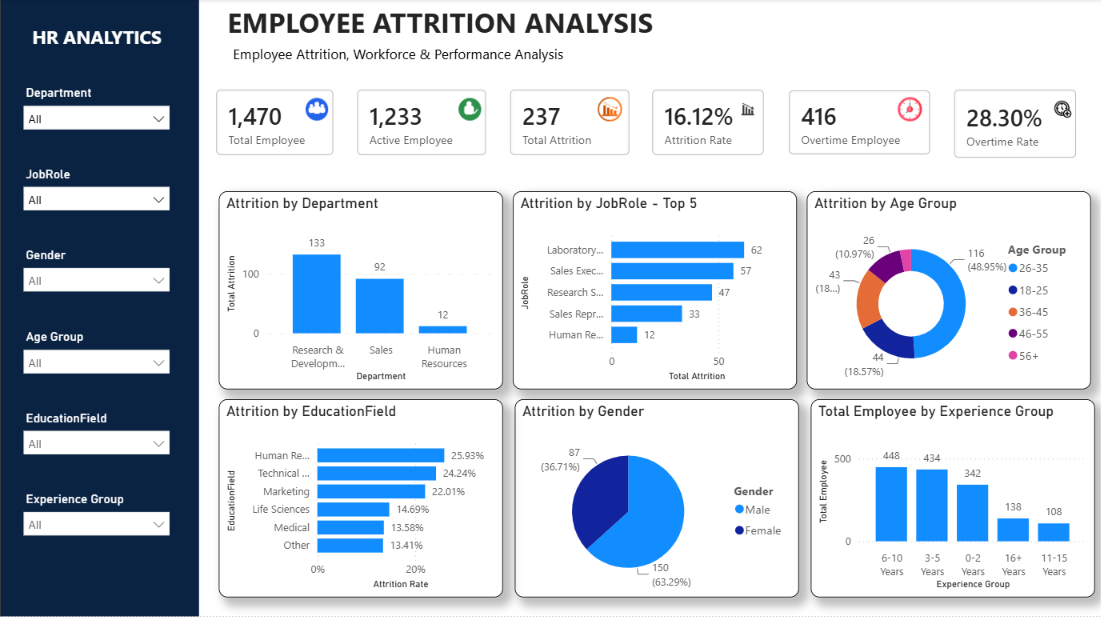

What the dashboard file says about the page in this screenshot:
{"tool":"powerbi","page":{"name":"HR_Analytics_Dashboard","canvas":[1280,720],"ordinal":0},"visuals":[{"type":"cardVisual","fields":{"Data":["hr_analytics employees.Total Attrition"]},"box":[575,88.4,172.1,110.5],"z":0},{"type":"cardVisual","fields":{"Data":["hr_analytics employees.Active Employee"]},"box":[397.7,88.4,183.7,110.5],"z":1000},{"type":"cardVisual","fields":{"Data":["hr_analytics employees.Total Employee"]},"box":[234.1,88.4,170,110],"z":2000},{"type":"cardVisual","fields":{"Data":["hr_analytics employees.Attrition Rate"]},"box":[740.7,88.4,164,110.5],"z":3000},{"type":"shape","box":[243,0,1037.2,88.4],"z":4000},{"type":"textbox","box":[243,0,536,55.8],"z":5000},{"type":"textbox","box":[265.1,47.7,496.5,34.9],"z":6000},{"type":"cardVisual","fields":{"Data":["hr_analytics employees.Overtime Employee"]},"box":[898.3,88.4,200,110.5],"z":7000},{"type":"columnChart","title":"Attrition by Department","fields":{"Category":["hr_analytics employees.Department"],"Y":["hr_analytics employees.Total Attrition"]},"box":[253.6,223.6,330,230],"z":8000},{"type":"barChart","title":"Attrition by JobRole - Top 5","fields":{"Y":["hr_analytics employees.Total Attrition"],"Category":["hr_analytics employees.JobRole"]},"box":[595.5,223.6,330,230],"z":9000},{"type":"donutChart","title":"Attrition by Age Group","fields":{"Y":["hr_analytics employees.Total Attrition"],"Category":["hr_analytics employees.Age Group"]},"box":[937.3,223.6,330,230],"z":10000},{"type":"pieChart","title":"Attrition by Gender","fields":{"Y":["hr_analytics employees.Total Attrition"],"Category":["hr_analytics employees.Gender"]},"box":[597.4,464.7,330,230],"z":11000},{"type":"clusteredBarChart","title":"Attrition by EducationField","fields":{"Category":["hr_analytics employees.EducationField"],"Y":["hr_analytics employees.Attrition Rate"]},"box":[253.4,464.7,330,230],"z":12000},{"type":"columnChart","fields":{"Y":["hr_analytics employees.Total Employee"],"Category":["hr_analytics employees.Experience Group"]},"box":[941.4,464.7,330,230],"z":13000},{"type":"shape","box":[0,0,230,719.8],"z":14000},{"type":"textbox","box":[25,25,174.4,40.7],"z":15000},{"type":"slicer","fields":{"Values":["hr_analytics employees.Department"]},"box":[16.3,95.3,190,60],"z":16000},{"type":"slicer","fields":{"Values":["hr_analytics employees.JobRole"]},"box":[16.3,189.8,190,60],"z":17000},{"type":"slicer","fields":{"Values":["hr_analytics employees.Gender"]},"box":[16.3,284.2,190,60],"z":18000},{"type":"slicer","fields":{"Values":["hr_analytics employees.Age Group"]},"box":[16.3,378.6,190,60],"z":19000},{"type":"slicer","fields":{"Values":["hr_analytics employees.Experience Group"]},"box":[16.3,567.4,190,60],"z":20000},{"type":"slicer","fields":{"Values":["hr_analytics employees.EducationField"]},"box":[16.3,473,190,60],"z":21000},{"type":"cardVisual","fields":{"Data":["hr_analytics employees.Overtime Rate"]},"box":[1091.9,88.4,175.6,114],"z":26000},{"type":"image","box":[1220.9,114,28,28],"z":28000},{"type":"image","box":[1043,114,28,28],"z":28500},{"type":"image","box":[854.7,114,28,28],"z":29000},{"type":"image","box":[694,114.1,28,28],"z":29500},{"type":"image","box":[531.9,114.1,28,28],"z":30000},{"type":"image","box":[353.5,114,28,28],"z":30500}]}

Visuals, with their boxes in screenshot pixels (x1, y1, x2, y2), scaled from the page's 1280x720 canvas onto the 1101x617 screenshot:
cardVisual - hr_analytics employees.Total Attrition: <bbox>495, 76, 643, 170</bbox>
cardVisual - hr_analytics employees.Active Employee: <bbox>342, 76, 500, 170</bbox>
cardVisual - hr_analytics employees.Total Employee: <bbox>201, 76, 348, 170</bbox>
cardVisual - hr_analytics employees.Attrition Rate: <bbox>637, 76, 778, 170</bbox>
shape: <bbox>209, 0, 1100, 76</bbox>
textbox: <bbox>209, 0, 670, 48</bbox>
textbox: <bbox>228, 41, 655, 71</bbox>
cardVisual - hr_analytics employees.Overtime Employee: <bbox>773, 76, 945, 170</bbox>
"Attrition by Department" columnChart: <bbox>218, 192, 502, 389</bbox>
"Attrition by JobRole - Top 5" barChart: <bbox>512, 192, 796, 389</bbox>
"Attrition by Age Group" donutChart: <bbox>806, 192, 1090, 389</bbox>
"Attrition by Gender" pieChart: <bbox>514, 398, 798, 595</bbox>
"Attrition by EducationField" clusteredBarChart: <bbox>218, 398, 502, 595</bbox>
columnChart - hr_analytics employees.Total Employee x hr_analytics employees.Experience Group: <bbox>810, 398, 1094, 595</bbox>
shape: <bbox>0, 0, 198, 616</bbox>
textbox: <bbox>22, 21, 172, 56</bbox>
slicer - hr_analytics employees.Department: <bbox>14, 82, 177, 133</bbox>
slicer - hr_analytics employees.JobRole: <bbox>14, 163, 177, 214</bbox>
slicer - hr_analytics employees.Gender: <bbox>14, 244, 177, 295</bbox>
slicer - hr_analytics employees.Age Group: <bbox>14, 324, 177, 376</bbox>
slicer - hr_analytics employees.Experience Group: <bbox>14, 486, 177, 538</bbox>
slicer - hr_analytics employees.EducationField: <bbox>14, 405, 177, 457</bbox>
cardVisual - hr_analytics employees.Overtime Rate: <bbox>939, 76, 1090, 173</bbox>
image: <bbox>1050, 98, 1074, 122</bbox>
image: <bbox>897, 98, 921, 122</bbox>
image: <bbox>735, 98, 759, 122</bbox>
image: <bbox>597, 98, 621, 122</bbox>
image: <bbox>458, 98, 482, 122</bbox>
image: <bbox>304, 98, 328, 122</bbox>
